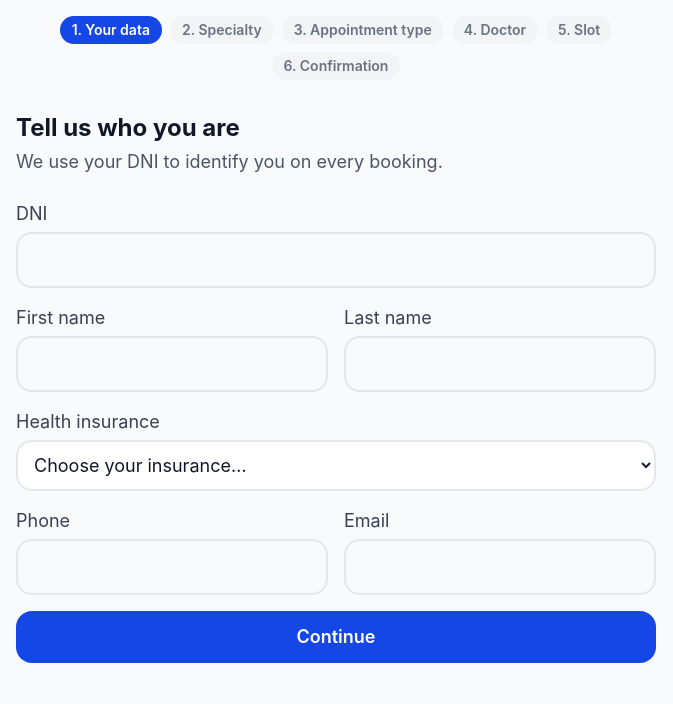
it: BookingFlow — patient form step › does not advance when the form has validation errors
What coordinates should you click on to do the following:
click the button "Continue"
I would click on:
 (336, 637)
Its box is [16,611,656,663].
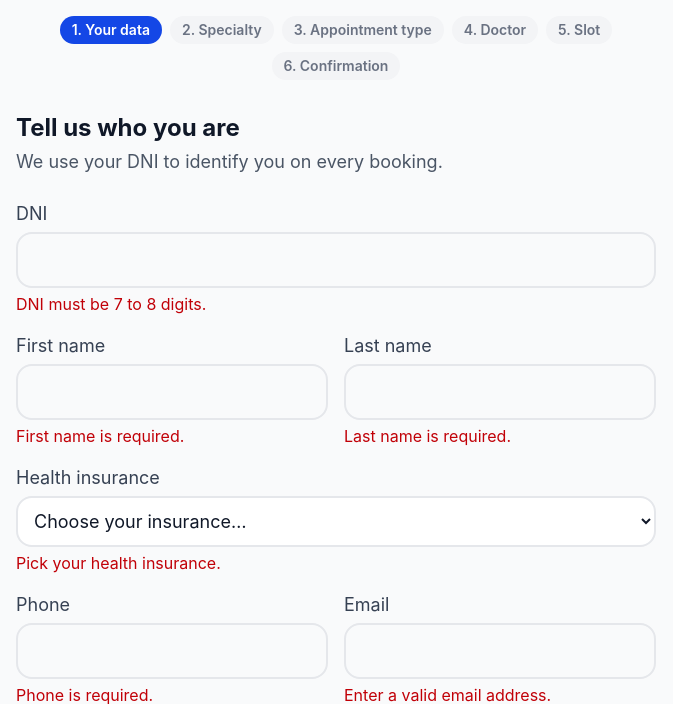
Now the text "DNI must be 7 to 8 digits." is shown, box [16,294,206,314]
Now the text "First name is required." is shown, box [16,426,184,446]
Now the text "Enter a valid email address." is shown, box [344,685,551,703]
